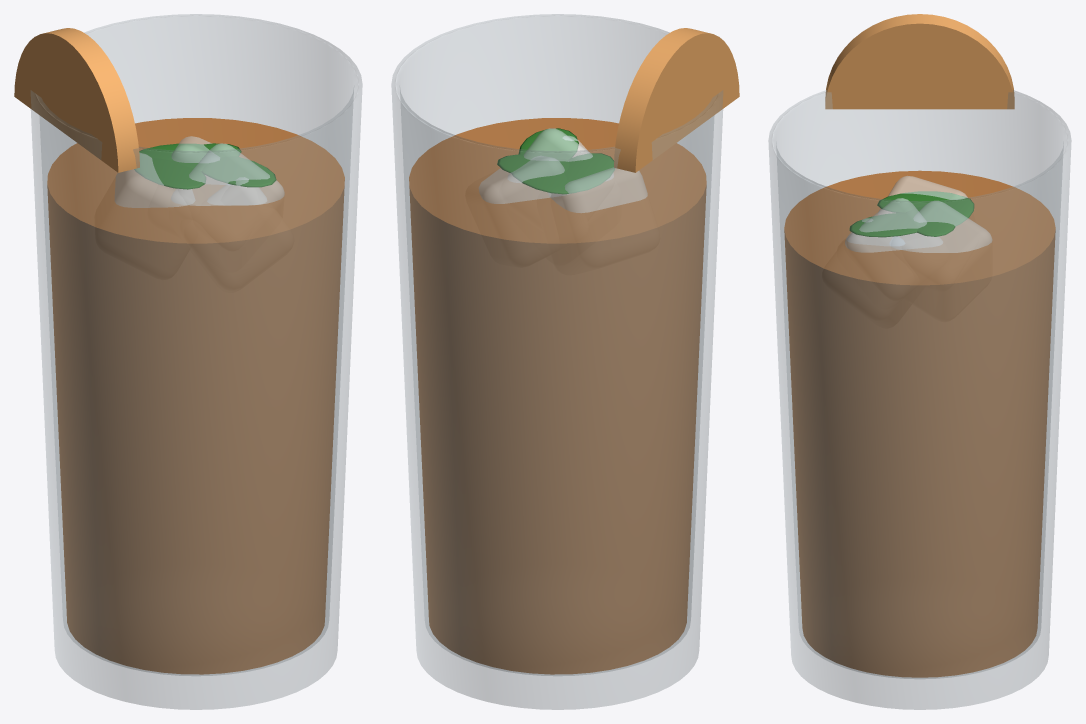
The model's file is cha-gelado.glb.
3 renders of one model, left to right at view 1: azimuth 30°, elevation 25°; view 2: azimuth 150°, elevation 25°; view 3: azimuth 270°, elevation 25°, orthographic. The views are drawn at different scales.
Parts seen in each view (by area): view 1: cha-gelado; view 2: cha-gelado; view 3: cha-gelado.
Part boxes in pixels (x1,y1,x2,y2): cha-gelado: (14,14,362,709); cha-gelado: (391,14,739,709); cha-gelado: (768,14,1071,709).
Bounding box in the file's own units: 0.08 × 0.17 × 0.08.
